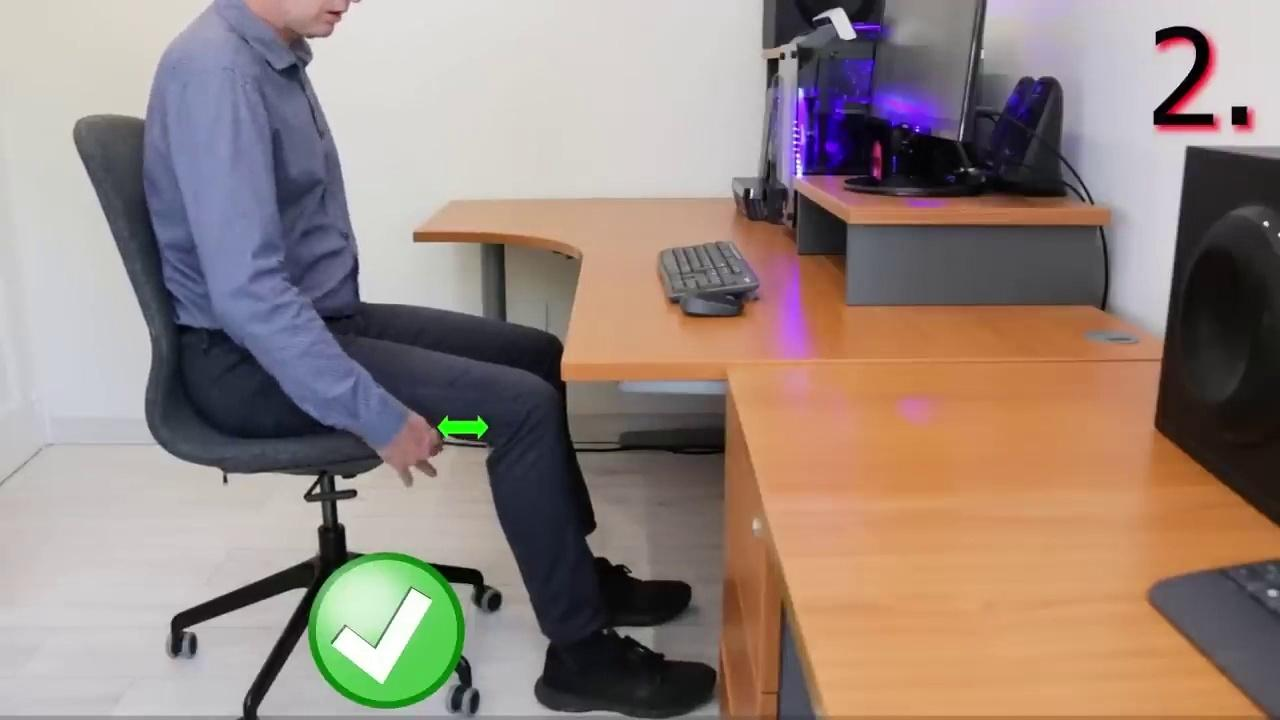GoodPosture: (141, 3, 708, 719)
